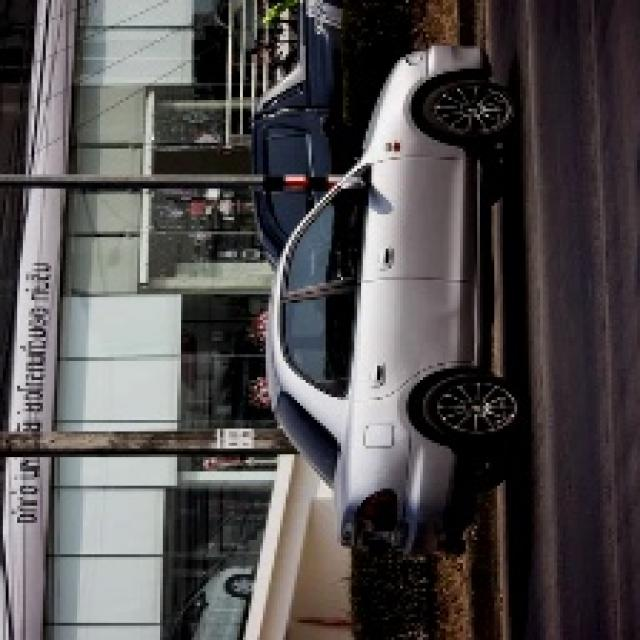car: (289, 48, 519, 561)
